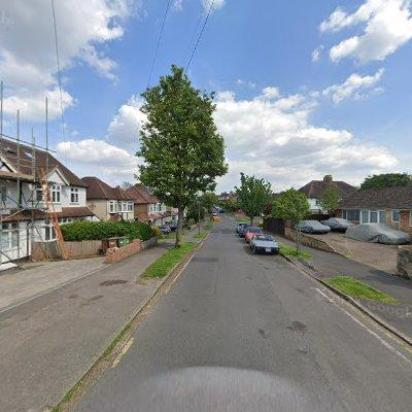stationary-car-offstreet: (346, 221, 410, 242), (320, 216, 354, 234), (298, 217, 330, 232), (154, 225, 170, 235)
stationary-car-onstreet: (250, 232, 281, 256), (244, 227, 264, 244), (238, 224, 254, 238), (235, 224, 249, 234)
